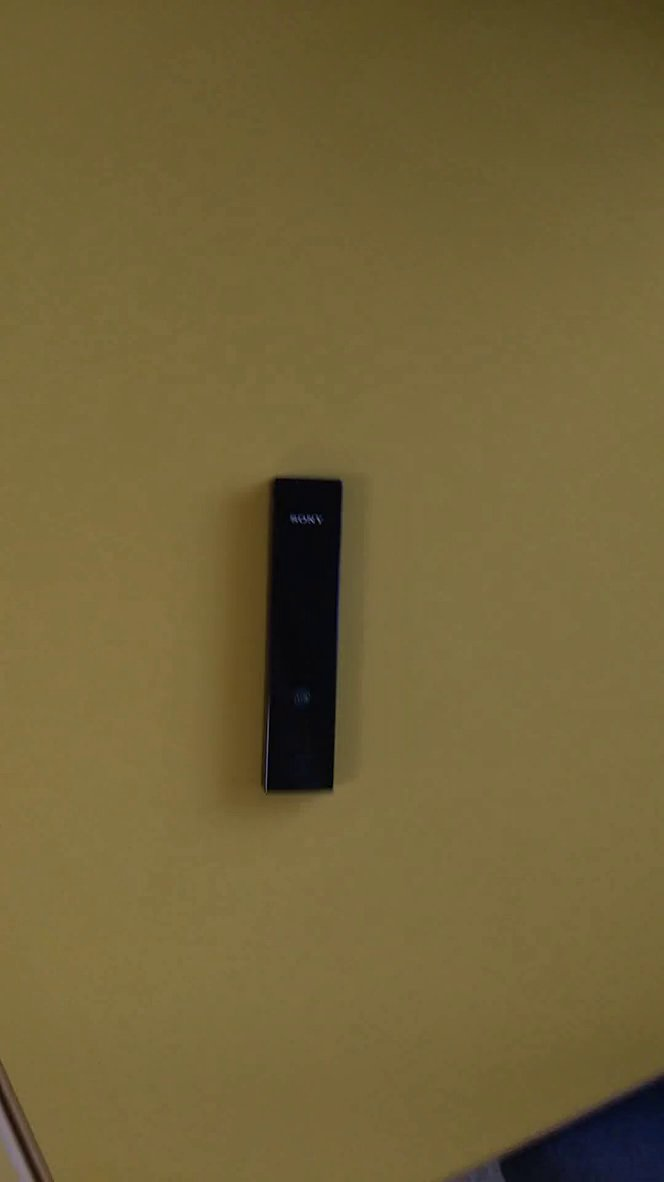remote: (247, 466, 365, 812)
